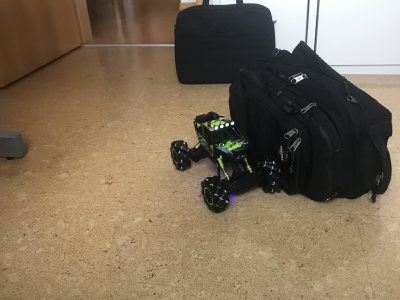remote control car: (164, 112, 285, 214)
